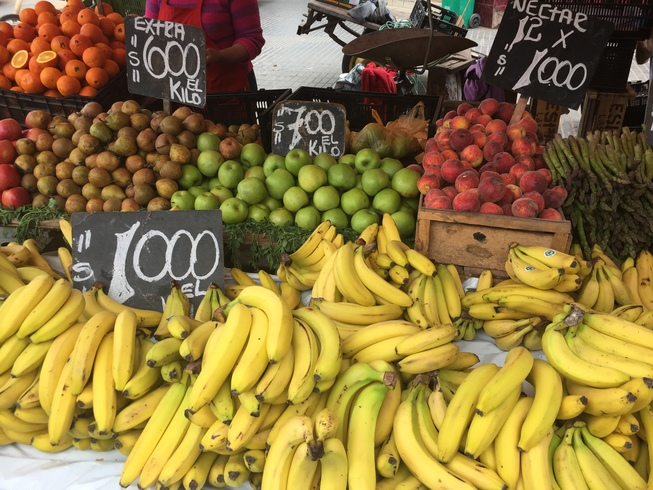precio: (59, 203, 232, 309), (475, 1, 608, 118), (115, 13, 214, 113), (268, 96, 353, 166)
